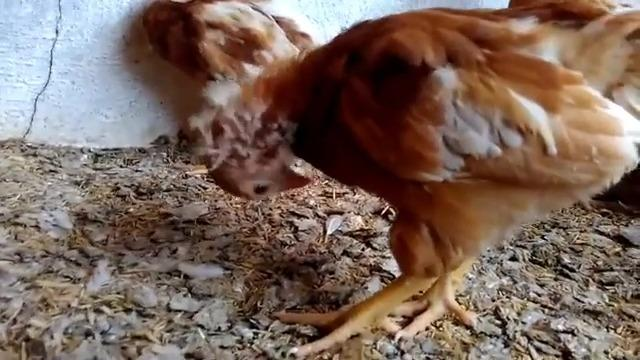AbNormal: (175, 3, 640, 360)
